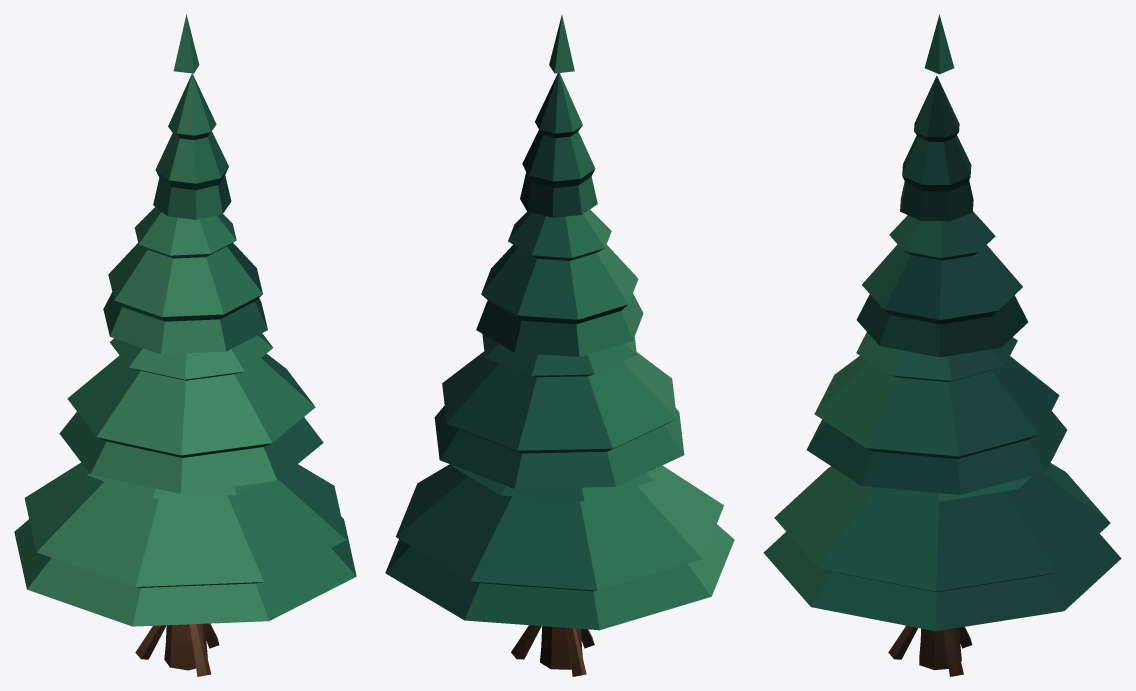
Rendered from tree_pine_slim.glb.
3 renders of one model, left to right at view 1: azimuth 30°, elevation 25°; view 2: azimuth 150°, elevation 25°; view 3: azimuth 270°, elevation 25°, orthographic.
Visible parts, largest first — view 1: tree_pine_slim; view 2: tree_pine_slim; view 3: tree_pine_slim.
Part boxes in pixels (x1,y1,x2,y2): tree_pine_slim: (14, 14, 356, 676); tree_pine_slim: (385, 15, 734, 676); tree_pine_slim: (763, 14, 1121, 676).
Bounding box in the file's own units: 1.2 × 2.39 × 1.2.
